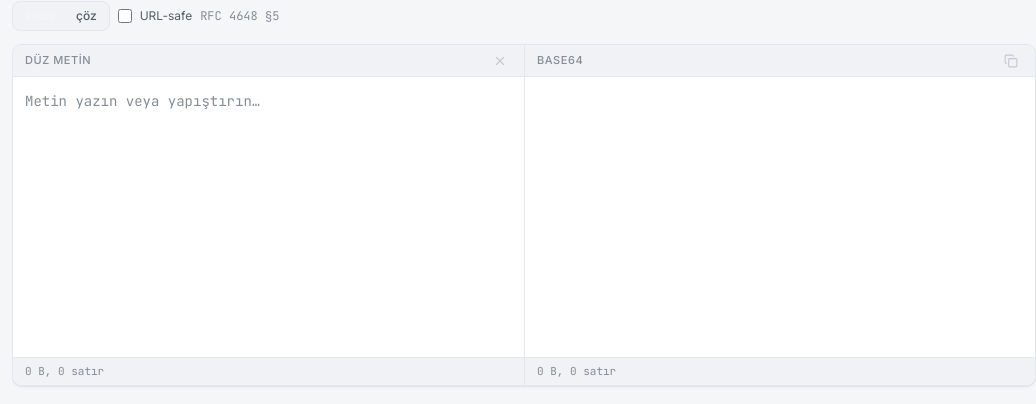
Test: Base64Tool › çözme yönünde URL-safe kutusu hiç gösterilmez
Expected: the checkbox labelled "URL-safe RFC 4648 §5" is shown, [118,9,132,23]
What coordinates should you click on to do the following:
click the button "çöz"
I would click on:
 (86, 16)
Its box is [66,4,107,28].
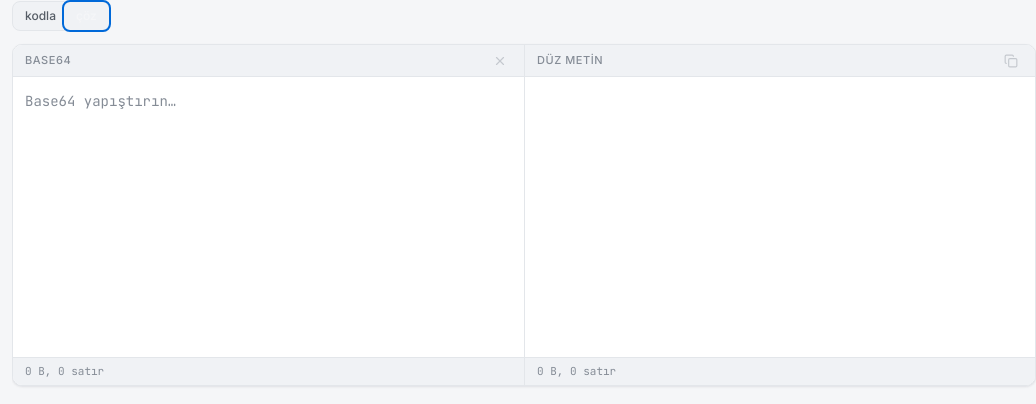
Expected: the label "URL-safe" is gone
